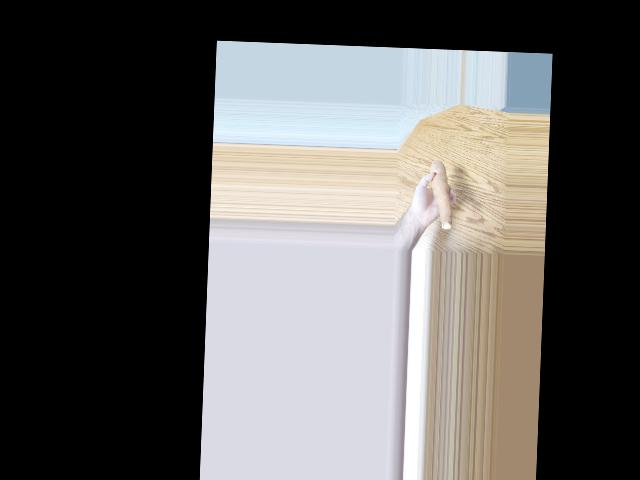sweet_potato: (432, 156, 453, 232)
